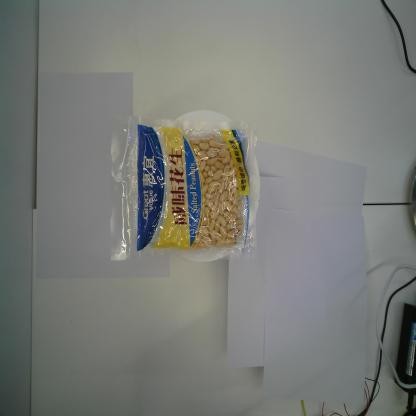Dried Fruit: (104, 108, 263, 262)
